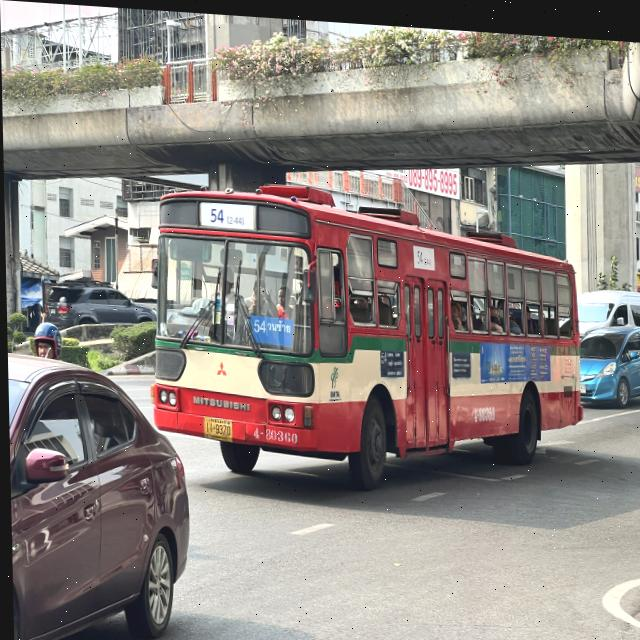BMTA-bus: (148, 183, 583, 473)
Bus Line Number: (198, 198, 255, 226)
Bus Side Number: (250, 422, 299, 443)
Destination Sign: (249, 311, 293, 345)
